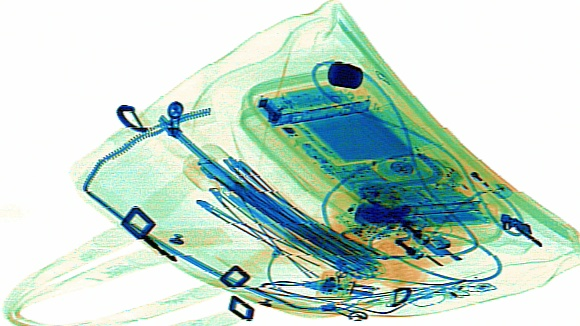lighter: (455, 147, 510, 199)
